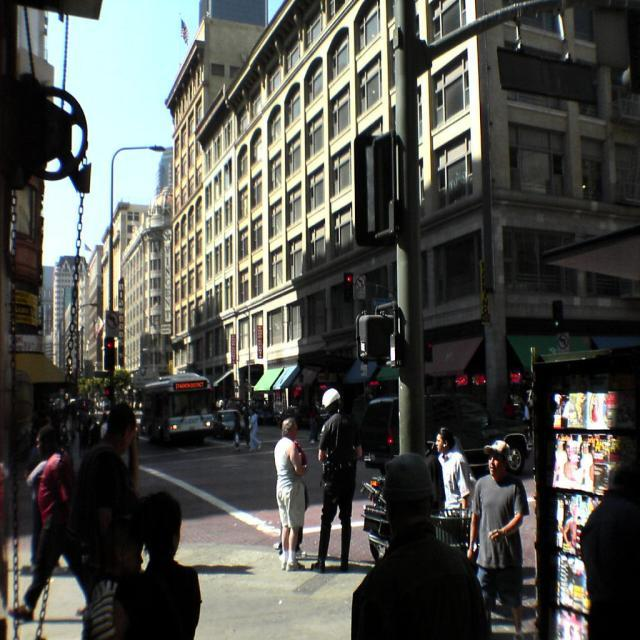traffic light: (105, 337, 115, 373), (552, 298, 562, 333), (343, 271, 353, 302)
